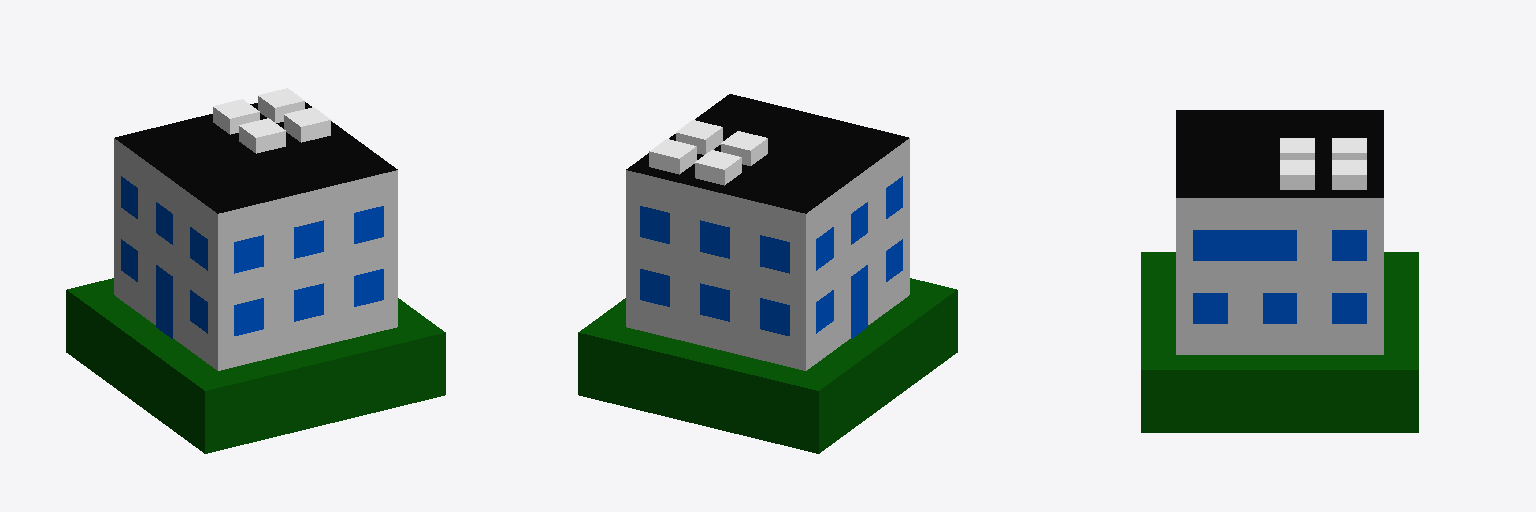
The picture shows the model from 3 angles: view 1: azimuth 30°, elevation 25°; view 2: azimuth 150°, elevation 25°; view 3: azimuth 270°, elevation 25°; orthographic projection.
Visible parts, largest first — view 1: cuboid; view 2: cuboid; view 3: cuboid.
Boxes of the visible parts, box(x1,y1,x2,y2) form: cuboid: box(66, 88, 445, 453); cuboid: box(578, 94, 957, 453); cuboid: box(1141, 110, 1418, 432).
Size of the model in its own units: 0.25 by 0.2344 by 0.25.
Materials: 1 (1 with a texture image).